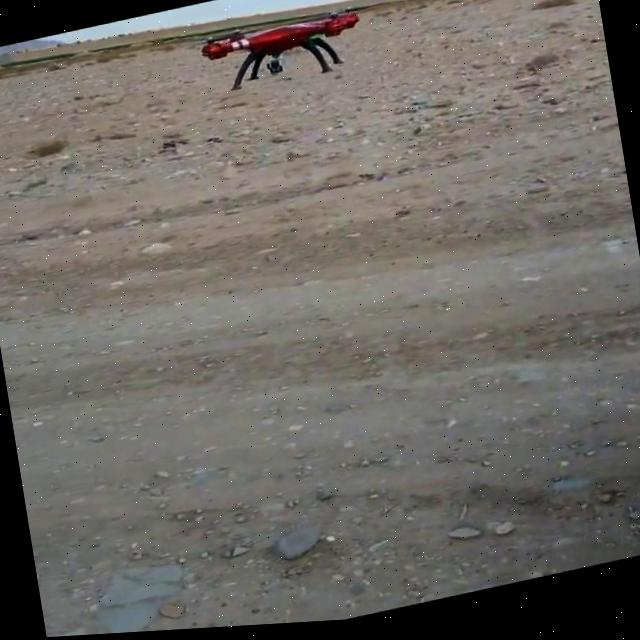drone: (180, 0, 390, 109)
